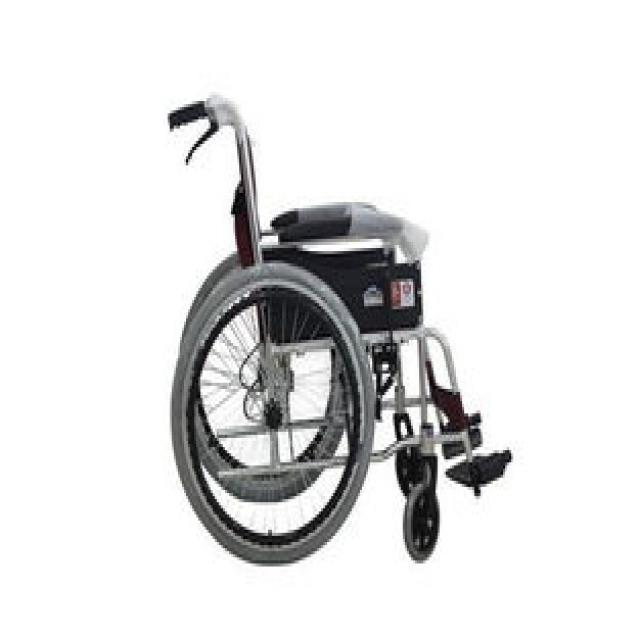wheelchair: (94, 76, 526, 582)
